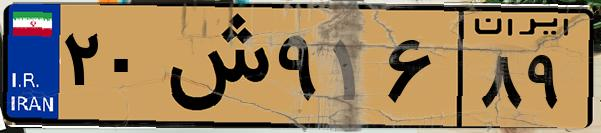0: (110, 28, 158, 98)
1: (330, 28, 385, 110)
2: (57, 26, 110, 100)
6: (385, 28, 445, 110)
8: (475, 38, 525, 113)
9: (270, 28, 330, 110), (525, 38, 570, 115)
ش: (158, 12, 270, 120)
